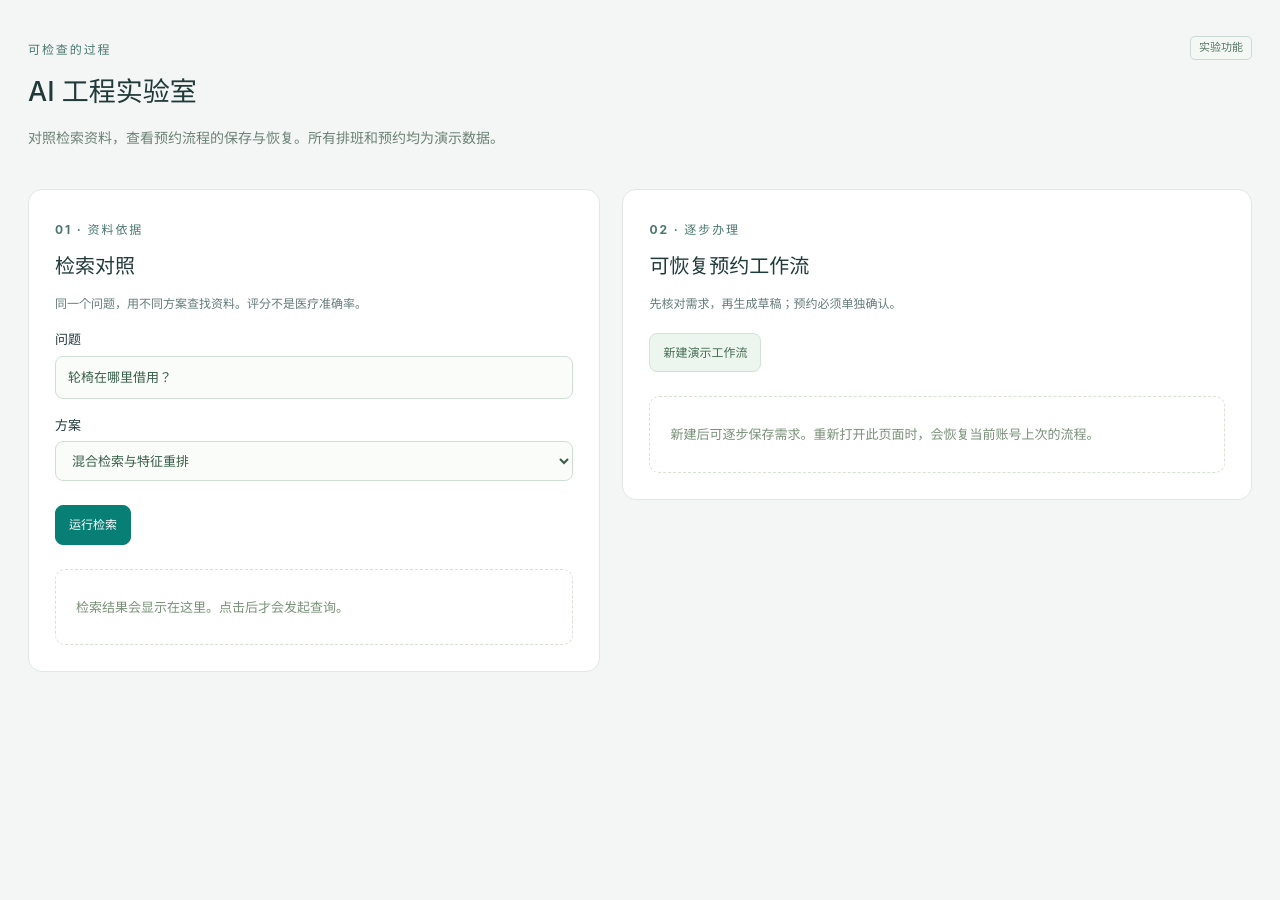
it: shows failed retrieval without inventing a result
Click the button "运行检索": [93, 525] box [55, 505, 131, 544]
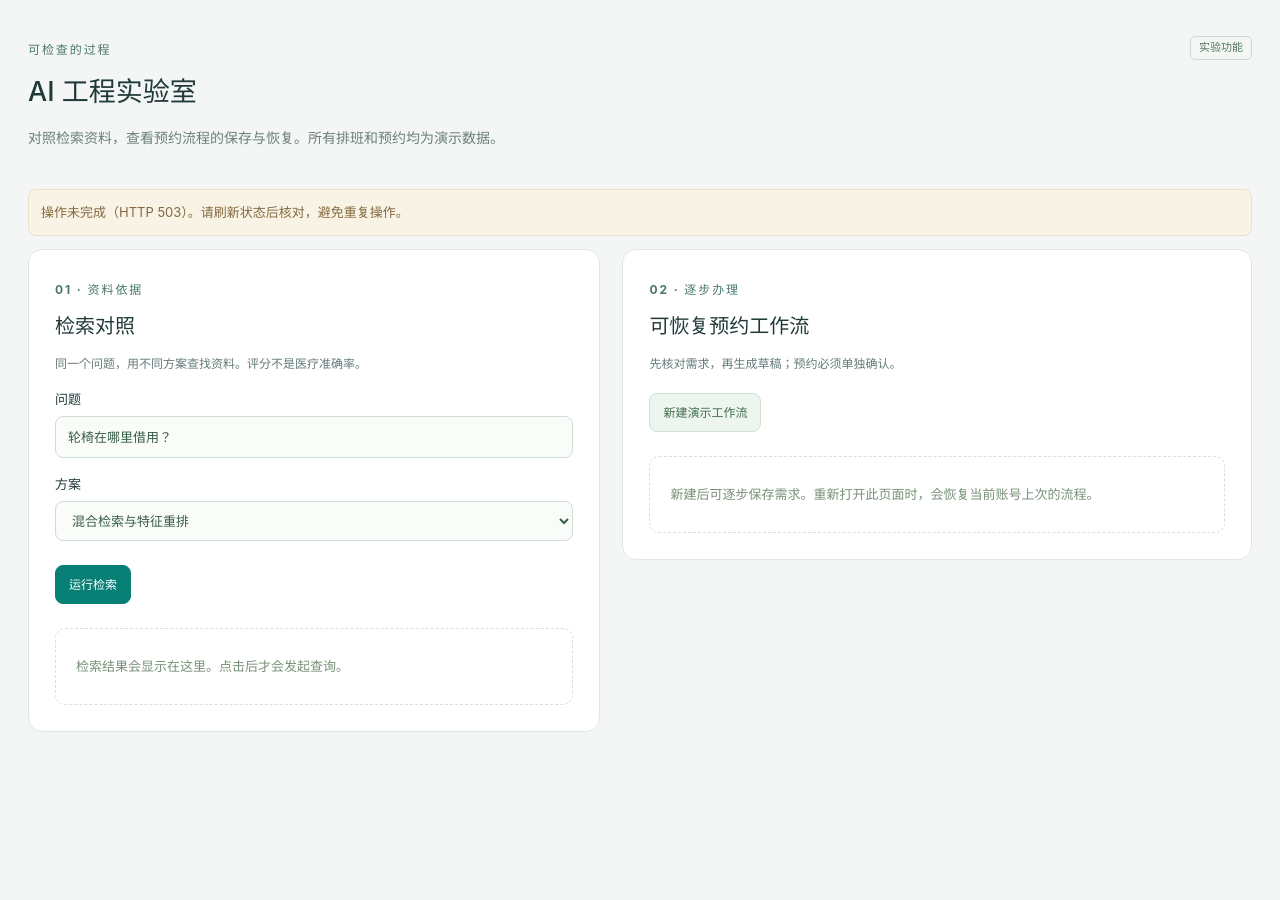
Result: the text "HTTP 503" is shown at [41, 204, 409, 220]
